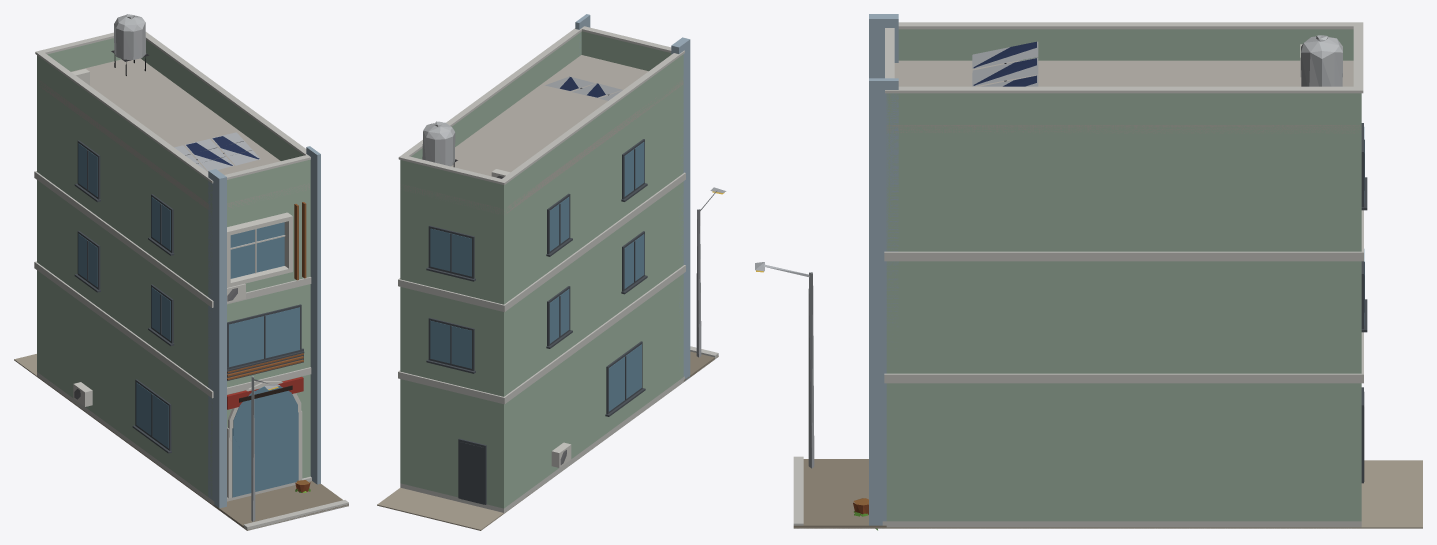
Rendered from bay1_left.glb.
The picture shows the model from 3 angles, left to right: view 1: azimuth 30°, elevation 25°; view 2: azimuth 150°, elevation 25°; view 3: azimuth 270°, elevation 25°; orthographic projection. The views are drawn at different scales.
Parts seen in each view (by area): view 1: body; view 2: body; view 3: body.
Part boxes in pixels (x1=…): body: x1=14, y1=14, x2=348, y2=530; body: x1=377, y1=14, x2=726, y2=530; body: x1=755, y1=14, x2=1422, y2=530.
Size of the model in its own units: 4.42 by 13.63 by 16.88.
